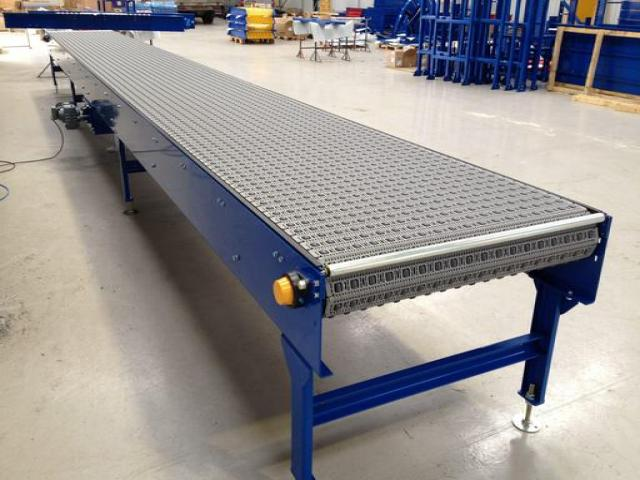conveyor: (41, 28, 619, 346)
